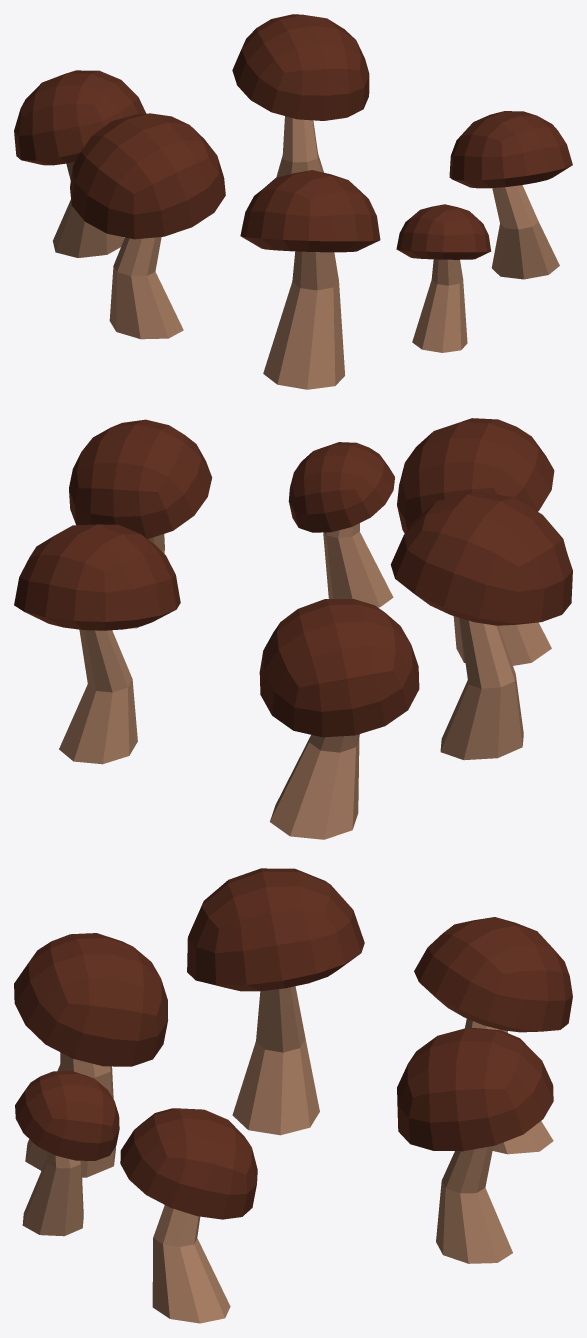
Rendered from mesh_mushrooms_02_brown.fbx.
3 renders of one model, top to bottom at view 1: azimuth 30°, elevation 25°; view 2: azimuth 150°, elevation 25°; view 3: azimuth 270°, elevation 25°, orthographic. The views are drawn at different scales.
Visible parts, largest first — view 1: mesh_mushrooms_02_brown_LOD0; view 2: mesh_mushrooms_02_brown_LOD0; view 3: mesh_mushrooms_02_brown_LOD0.
Boxes of the visible parts, x1,y1,x2,y2 form: mesh_mushrooms_02_brown_LOD0: [14, 14, 572, 389]; mesh_mushrooms_02_brown_LOD0: [14, 418, 572, 839]; mesh_mushrooms_02_brown_LOD0: [14, 868, 572, 1323].
Size of what is drawn, in the model's own units: 0.9909 by 0.4431 by 0.928.
